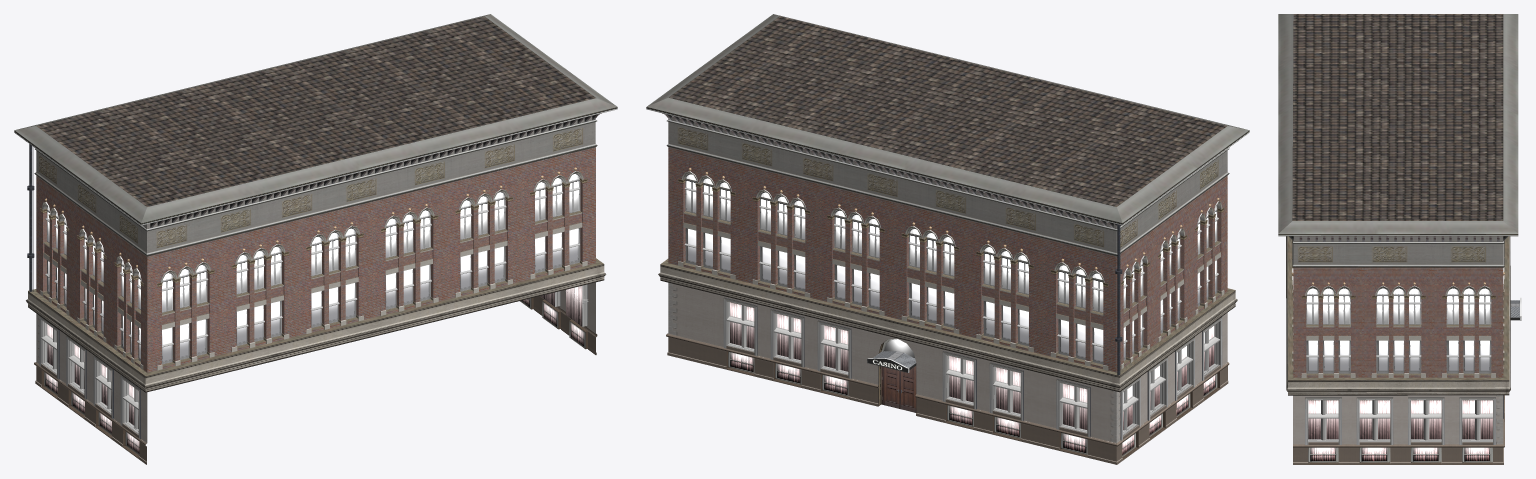
Rendered from harlem_casino.glb.
3 views of the same model, side by side, from view 1: azimuth 30°, elevation 25°; view 2: azimuth 150°, elevation 25°; view 3: azimuth 270°, elevation 25° (orthographic). The views are drawn at different scales.
Visible parts, largest first — view 1: polySurface291; view 2: polySurface291; view 3: polySurface291.
Part boxes in pixels (bbox=[...]): polySurface291: bbox=[14, 14, 617, 464]; polySurface291: bbox=[646, 14, 1249, 464]; polySurface291: bbox=[1278, 14, 1521, 464].
Size of the model in its own units: 29.73 by 15.36 by 13.9.
1 material, 1 textured.
